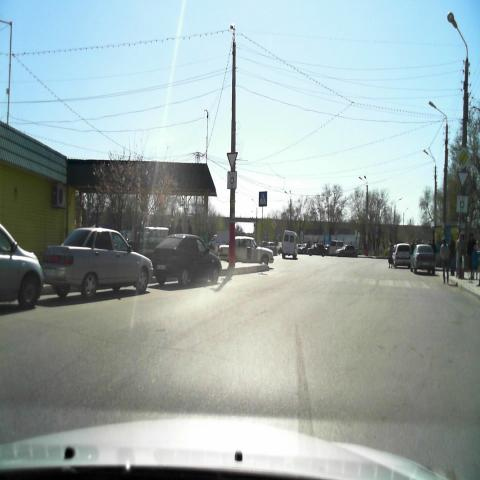2_2: (457, 144, 471, 166)
8_13_1: (456, 195, 470, 215), (226, 171, 238, 189)
